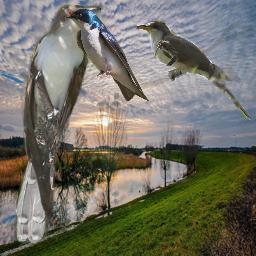Cuckoo: (13, 0, 104, 243), (136, 21, 251, 120)
Swallow: (65, 8, 150, 103)
